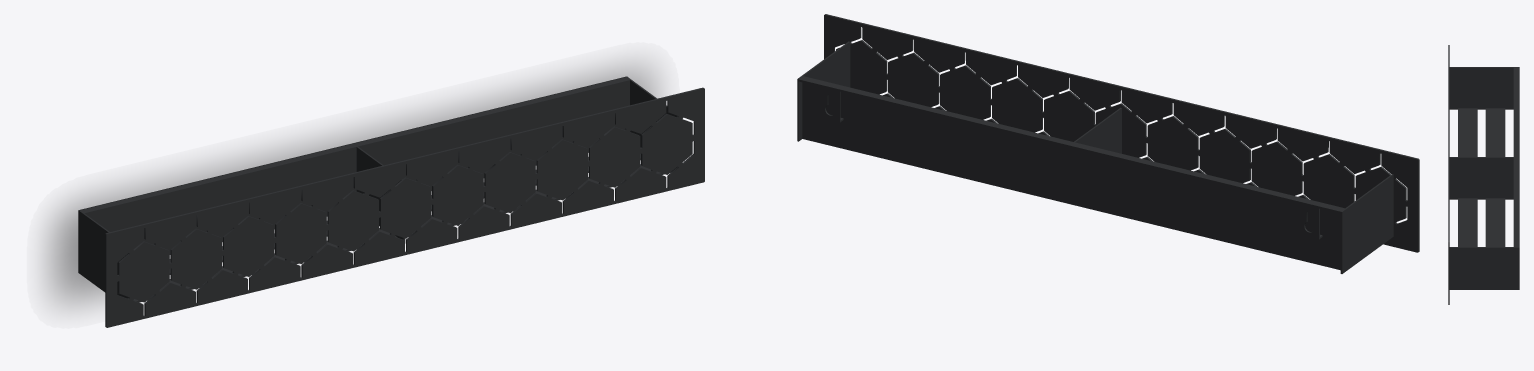
The model's file is bee-mono.408d0fc816.ar.glb.
3 views of the same model, side by side, from view 1: azimuth 30°, elevation 25°; view 2: azimuth 150°, elevation 25°; view 3: azimuth 270°, elevation 25° (orthographic). The views are drawn at different scales.
Parts seen in each view (by area): view 1: NAUO1, object 2; view 2: NAUO1; view 3: NAUO1.
Part boxes in pixels (x1=…): NAUO1: x1=78, y1=76, x2=704, y2=327; object 2: x1=46, y1=64, x2=659, y2=306; NAUO1: x1=797, y1=14, x2=1419, y2=273; NAUO1: x1=1448, y1=45, x2=1519, y2=304.
Bounding box in the file's own units: 0.68 × 0.17 × 0.092.
Materials: 2 (1 with a texture image).
